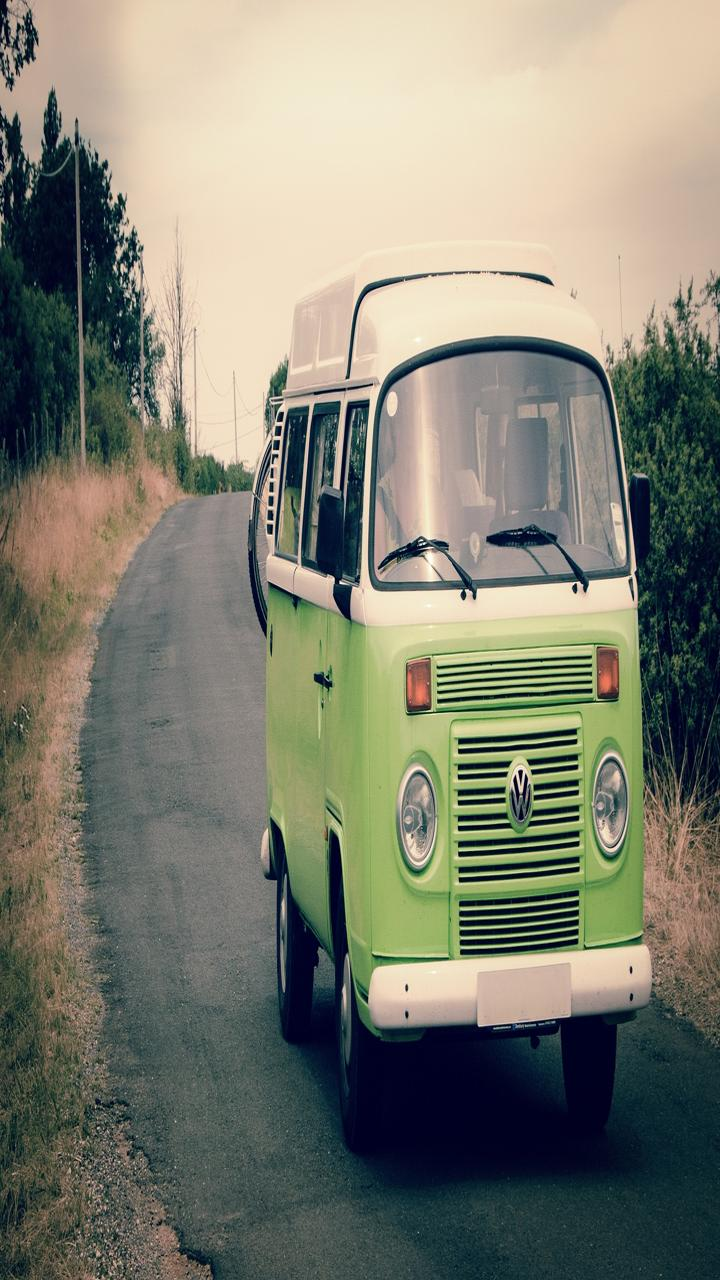vehicle: (202, 244, 676, 1103)
